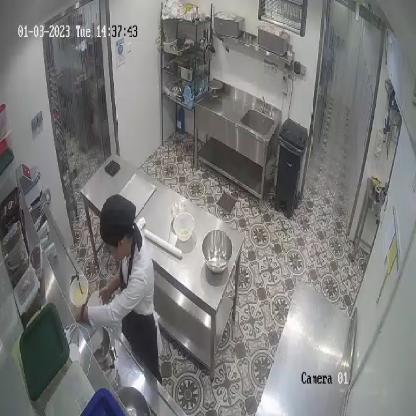apron: (118, 243, 158, 385)
